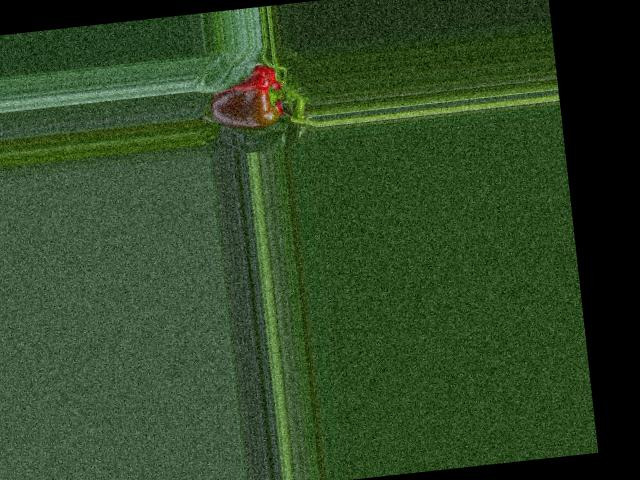bell_pepper: (201, 59, 296, 142)
